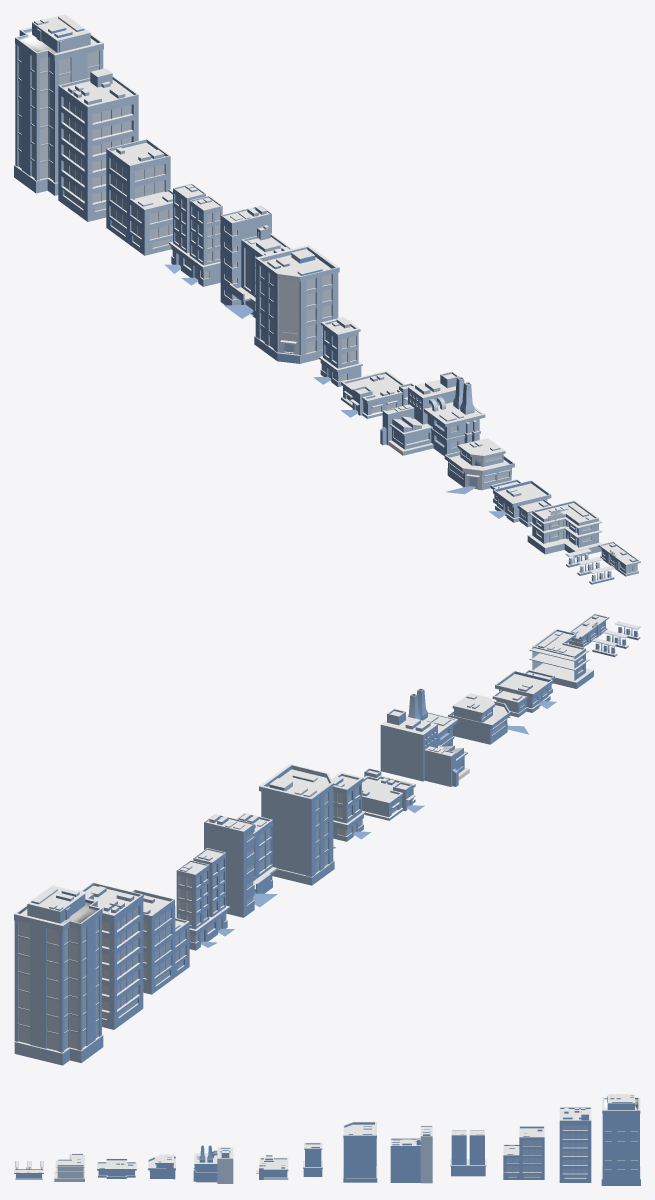
File: BuildingsRig.fbx
The picture shows the model from 3 angles, top to bottom: view 1: azimuth 30°, elevation 25°; view 2: azimuth 150°, elevation 25°; view 3: azimuth 270°, elevation 25°; orthographic projection. The views are drawn at different scales.
Visible parts, largest first — view 1: 01_Office, 02_Office, 07_Hotel, 10_Factory, 03_Office, 06_Hospital, 04_Appartment, 12_Motel, 01_Of_Win, 02_Of_win, 11_CoffeShop, 03_Of_Win (+5 smaller); view 2: 01_Office, 07_Hotel, 10_Factory, 01_Of_Win, 02_Office, 06_Hospital, 04_Appartment, 03_Office, 12_Motel, 11_CoffeShop, 09_Restaurant, 11_Bank (+5 smaller); view 3: 01_Office, 07_Hotel, 02_Office, 06_Hospital, 04_Appartment, 01_Of_Win, 03_Office, 10_Factory, 02_Of_win, 12_Motel, 03_Of_Win, 11_Bank (+5 smaller).
Boxes of the visible parts, x1,y1,x2,y2 form: 01_Office: (14,14,103,195); 02_Office: (58,68,138,221); 07_Hotel: (254,245,339,363); 10_Factory: (380,371,485,456); 03_Office: (106,139,172,255); 06_Hospital: (220,205,291,318); 04_Appartment: (169,183,222,286); 12_Motel: (527,500,602,557); 01_Of_Win: (18,46,99,180); 02_Of_win: (63,98,131,211); 11_CoffeShop: (444,438,514,490); 03_Of_Win: (110,159,172,247); 01_Office: (14,885,103,1065); 07_Hotel: (259,764,335,885); 10_Factory: (380,688,469,786); 01_Of_Win: (18,917,98,1050); 02_Office: (77,882,143,1029); 06_Hospital: (204,813,277,917); 04_Appartment: (176,848,229,950); 03_Office: (132,889,189,994); 12_Motel: (529,629,593,688); 11_CoffeShop: (448,693,510,744); 09_Restaurant: (362,768,415,820); 11_Bank: (492,669,554,717); 01_Office: (601,1094,640,1185); 07_Hotel: (343,1121,377,1182); 02_Office: (559,1107,591,1182); 06_Hospital: (390,1125,432,1183); 04_Appartment: (450,1130,486,1176); 01_Of_Win: (604,1114,637,1179); 03_Office: (503,1126,544,1179); 10_Factory: (193,1145,233,1183); 02_Of_win: (562,1125,587,1177); 12_Motel: (54,1152,84,1181); 03_Of_Win: (506,1140,541,1176); 11_Bank: (97,1158,136,1178).
Bounding box in the file's own units: 0.4771 × 0.8835 × 6.12.
